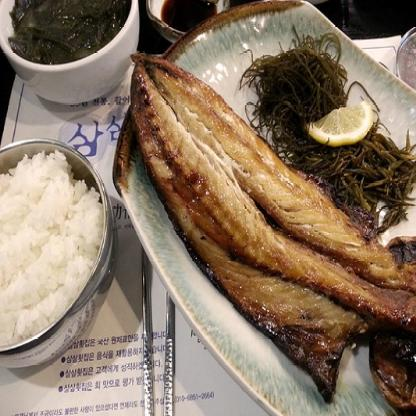Peixe: (129, 46, 416, 398)
